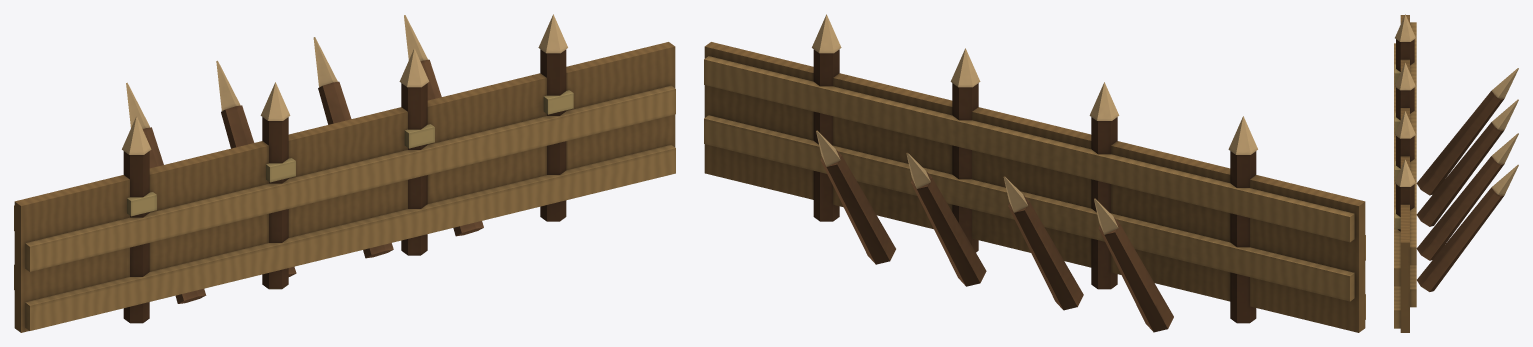
The model's file is fort_l1_edge.glb.
The picture shows the model from 3 angles, left to right: view 1: azimuth 30°, elevation 25°; view 2: azimuth 150°, elevation 25°; view 3: azimuth 270°, elevation 25°; orthographic projection. The views are drawn at different scales.
Visible parts, largest first — view 1: fort_l1_edge; view 2: fort_l1_edge; view 3: fort_l1_edge.
Part boxes in pixels (x1,y1,x2,y2): fort_l1_edge: (14,14,675,332); fort_l1_edge: (704,14,1365,332); fort_l1_edge: (1394,14,1518,332).
Size of the model in its own units: 0.81 by 0.2592 by 0.1878.
1 material, 1 textured.
